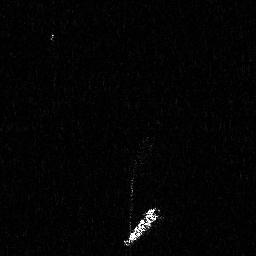ship: (121, 204, 166, 249)
